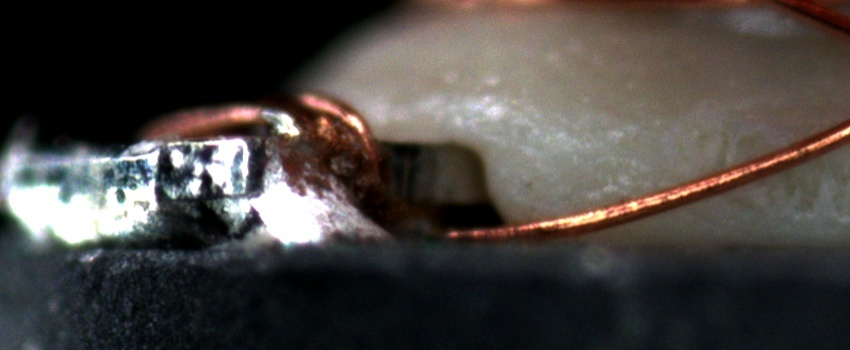DL: (533, 113, 677, 154)
TE: (139, 86, 396, 166)
